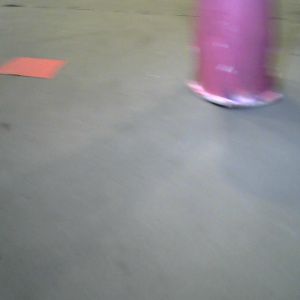right: (181, 1, 284, 116)
